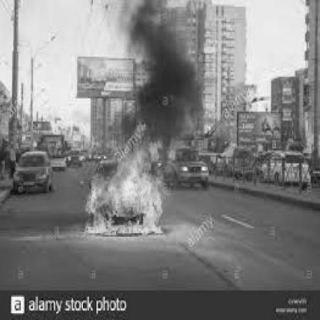Fire: (84, 116, 166, 236)
Smoke: (126, 5, 206, 119)
